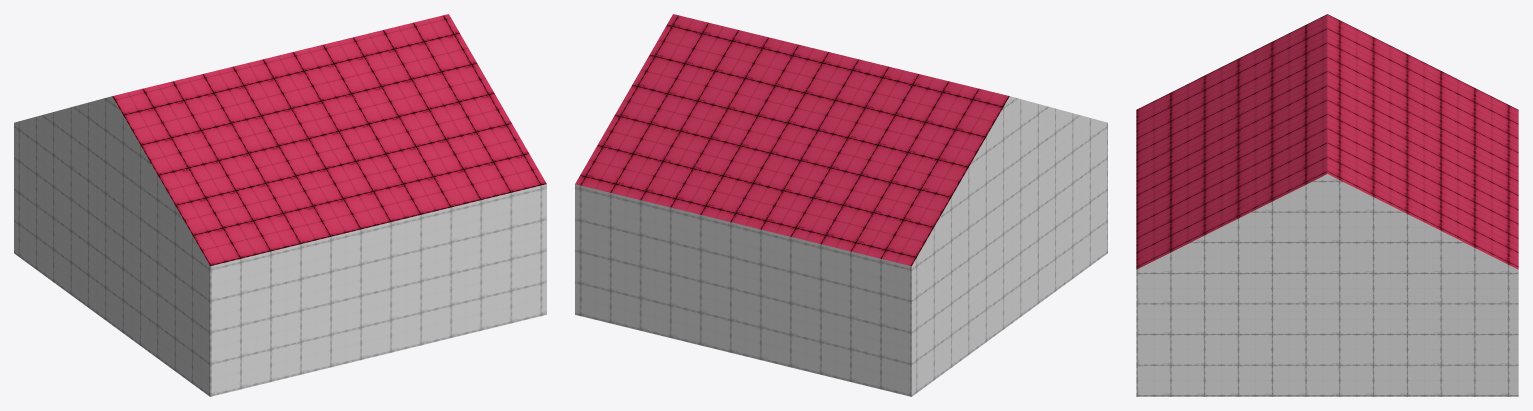
The model's file is CASA_PARQUE.fbx.
3 renders of one model, left to right at view 1: azimuth 30°, elevation 25°; view 2: azimuth 150°, elevation 25°; view 3: azimuth 270°, elevation 25°, orthographic. The views are drawn at different scales.
Parts seen in each view (by area): view 1: CASA_PARQUE; view 2: CASA_PARQUE; view 3: CASA_PARQUE.
Part boxes in pixels (x1,y1,x2,y2): CASA_PARQUE: (14,14,546,396); CASA_PARQUE: (575,14,1107,396); CASA_PARQUE: (1136,14,1518,396).
Size of the model in its own units: 11.21 by 7.29 by 11.31.
